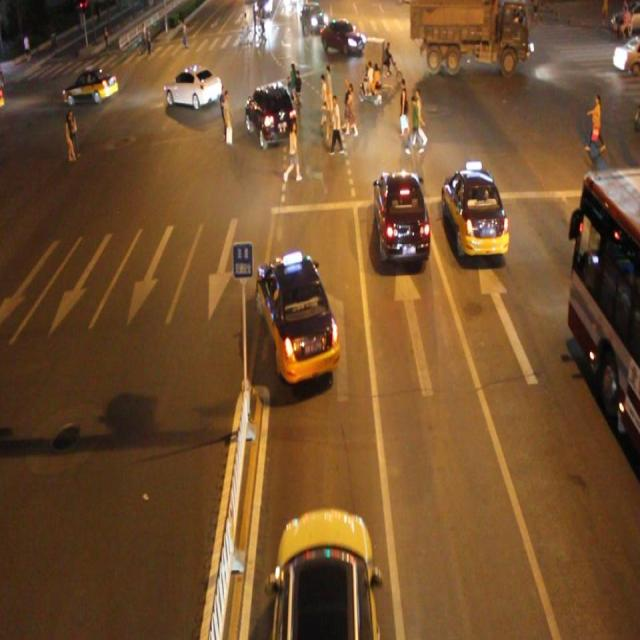bus: (410, 1, 530, 75)
car: (272, 507, 379, 640), (256, 250, 339, 382), (441, 170, 508, 260), (373, 168, 430, 263), (244, 82, 295, 149), (162, 64, 222, 110), (63, 66, 117, 106), (320, 16, 364, 54), (300, 1, 326, 37)
van: (567, 173, 640, 456)
